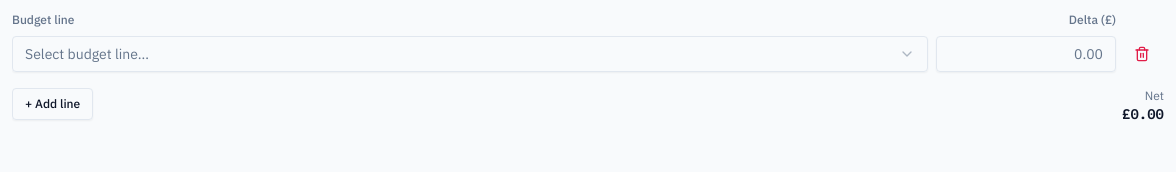
Test case: <BCRLineEditor/> — 2.6-FE-fix › Bug 3: lines with null descriptions stay distinguishable from one another
Click the dropdown with test id "bcr-line-editor-line-0": (87, 54) [12,36,928,72]
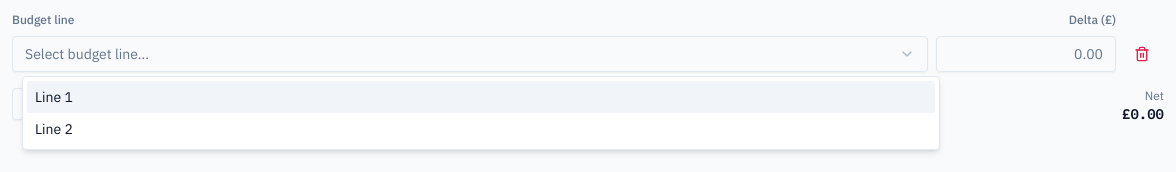
Expected: the text "Line 1" is shown, [35,88,73,106]
Expected: the text "Line 2" is shown, [35,120,73,138]
